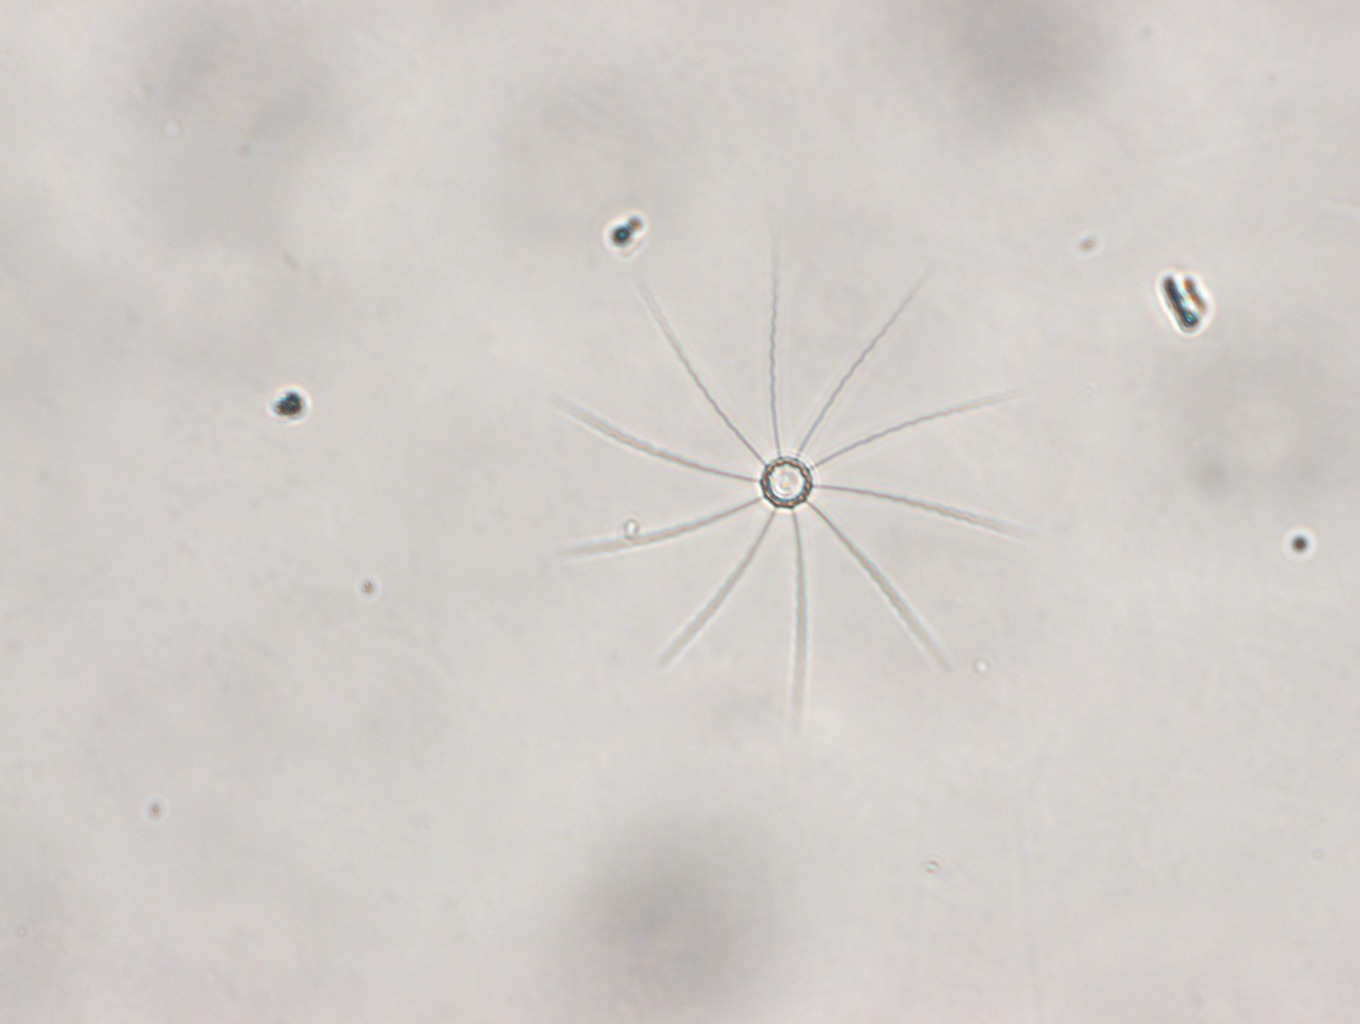bacteriastrum: (528, 229, 1086, 748)
